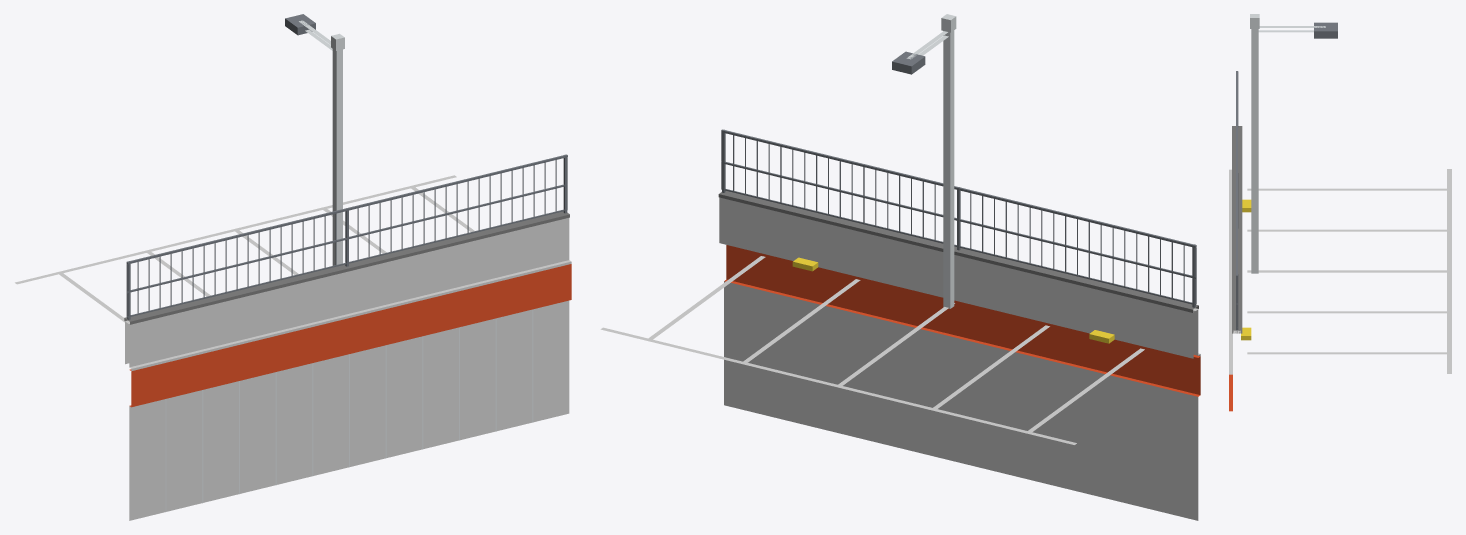
Rendered from top-w1_close.fbx.
3 views of the same model, side by side, from view 1: azimuth 30°, elevation 25°; view 2: azimuth 150°, elevation 25°; view 3: azimuth 270°, elevation 25° (orthographic). The views are drawn at different scales.
Visible parts, largest first — view 1: a2008/0/top-w1_close; view 2: a2008/0/top-w1_close; view 3: a2008/0/top-w1_close.
Boxes of the visible parts, box(x1,y1,x2,y2) form: a2008/0/top-w1_close: box(15, 14, 571, 520); a2008/0/top-w1_close: box(600, 14, 1200, 520); a2008/0/top-w1_close: box(1229, 14, 1451, 411).
Bounding box in the file's own units: 12.02 × 11 × 5.52.
